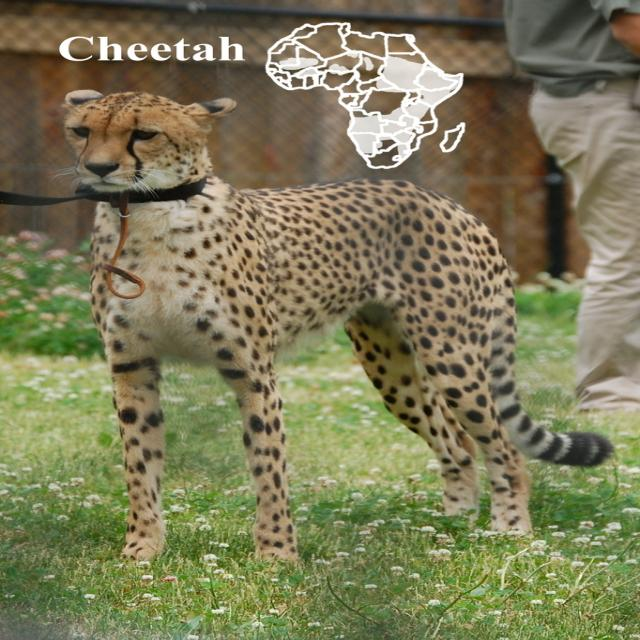Cheetah: (48, 73, 615, 580)
